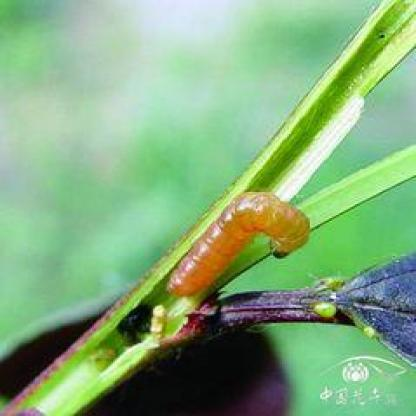armyworm: (165, 189, 317, 299)
